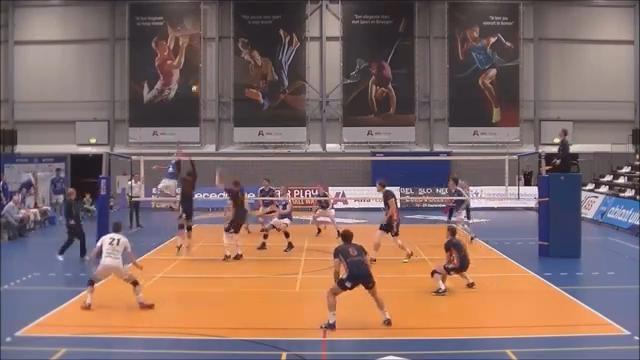Attack: (145, 141, 183, 208)
Block: (213, 163, 246, 264), (172, 153, 193, 259)
Player: (321, 229, 391, 329), (82, 222, 153, 309), (370, 181, 413, 262), (431, 225, 474, 294), (216, 172, 247, 260), (257, 187, 293, 251), (57, 188, 87, 260), (177, 159, 196, 253), (448, 176, 474, 241), (312, 185, 339, 236), (153, 151, 180, 197), (153, 153, 180, 196), (256, 178, 276, 231), (50, 168, 65, 221), (446, 201, 453, 221)
ball: (189, 84, 200, 95)
